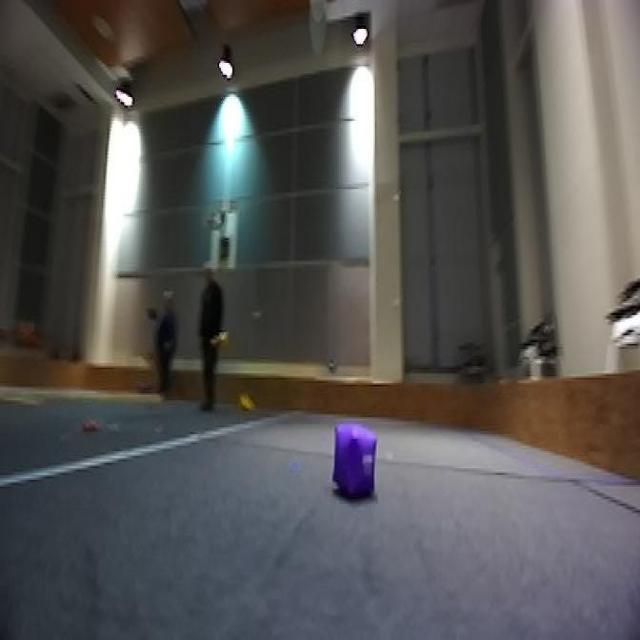frc_cone: (210, 327, 233, 354), (235, 389, 256, 414)
frc_cube: (331, 422, 377, 501)
